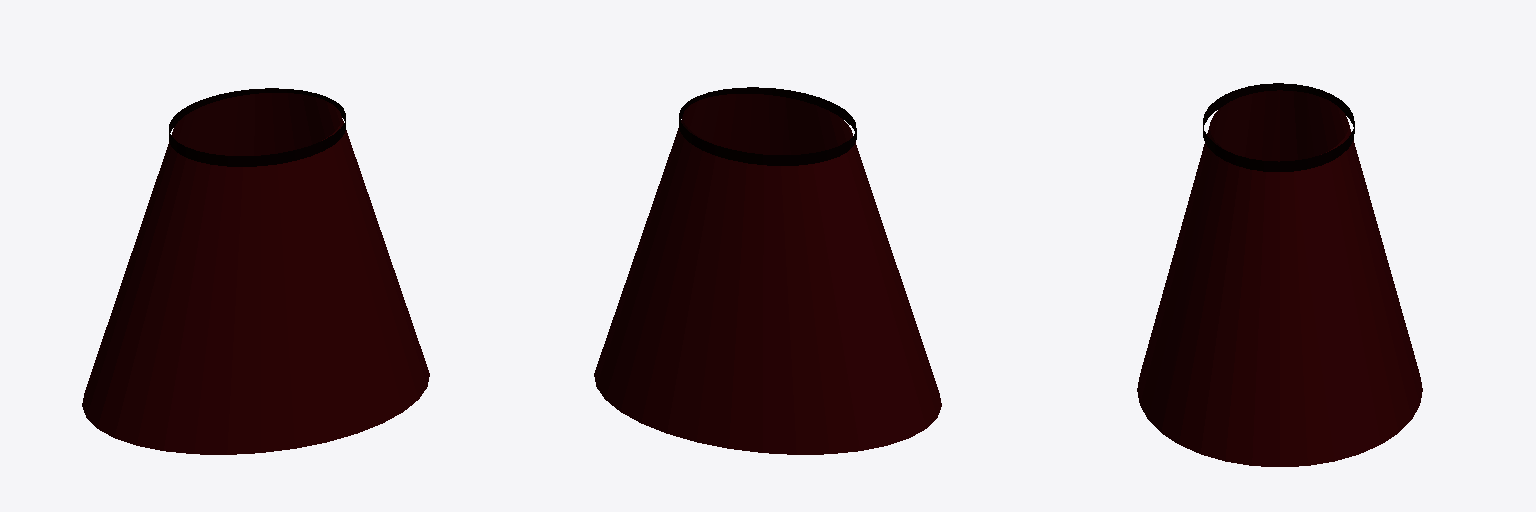
The model's file is simple_skirt.obj.
3 views of the same model, side by side, from view 1: azimuth 30°, elevation 25°; view 2: azimuth 150°, elevation 25°; view 3: azimuth 270°, elevation 25° (orthographic).
Visible parts, largest first — view 1: Cone, Cylinder_Cylinder.003; view 2: Cone, Cylinder_Cylinder.003; view 3: Cone, Cylinder_Cylinder.003.
Boxes of the visible parts, box(x1,y1,x2,y2) form: Cone: box(82, 93, 429, 454); Cylinder_Cylinder.003: box(169, 88, 345, 166); Cone: box(594, 94, 941, 454); Cylinder_Cylinder.003: box(679, 87, 856, 165); Cone: box(1137, 90, 1422, 466); Cylinder_Cylinder.003: box(1203, 83, 1354, 171).
Size of the model in its own units: 0.4669 by 0.3766 by 0.3639.